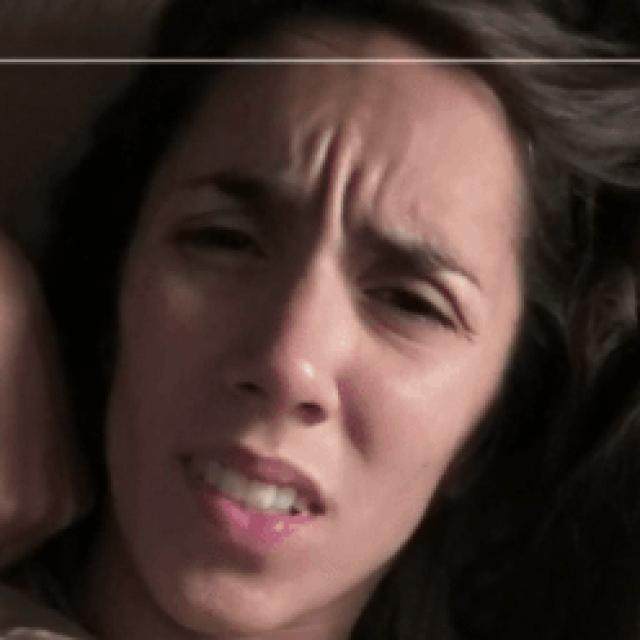Depress: (96, 58, 521, 637)
